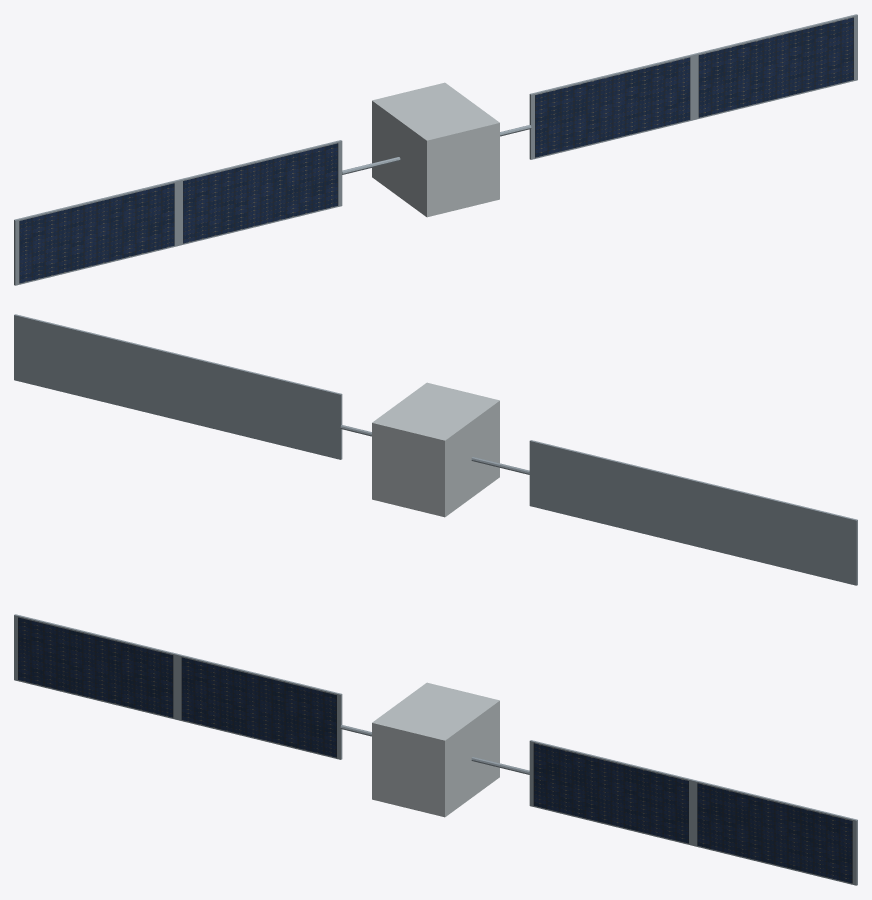
File: ref-ets-7-25064.glb
3 views of the same model, one above another, from view 1: azimuth 30°, elevation 25°; view 2: azimuth 150°, elevation 25°; view 3: azimuth 330°, elevation 25° (orthographic).
Visible parts, largest first — view 1: Photovoltaic laminates (×4), Spacecraft body, Array frame (×4); view 2: Array frame (×4), Spacecraft body; view 3: Photovoltaic laminates (×4), Spacecraft body, Array frame (×4).
Part boxes in pixels (x1,y1,x2,y2): Photovoltaic laminates (×4): (19,17,853,283); Spacecraft body: (372,82,499,217); Array frame (×4): (14,14,857,285); Array frame (×4): (14,314,857,585); Spacecraft body: (372,382,499,517); Photovoltaic laminates (×4): (18,617,852,883); Spacecraft body: (372,682,499,817); Array frame (×4): (14,614,857,885).
Bounding box in the file's own units: 23 × 2 × 2.6.
3 materials, 1 textured.
